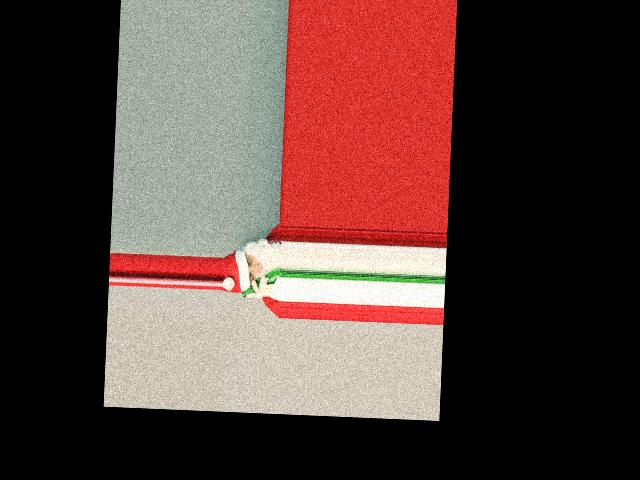beer: (241, 267, 282, 299)
